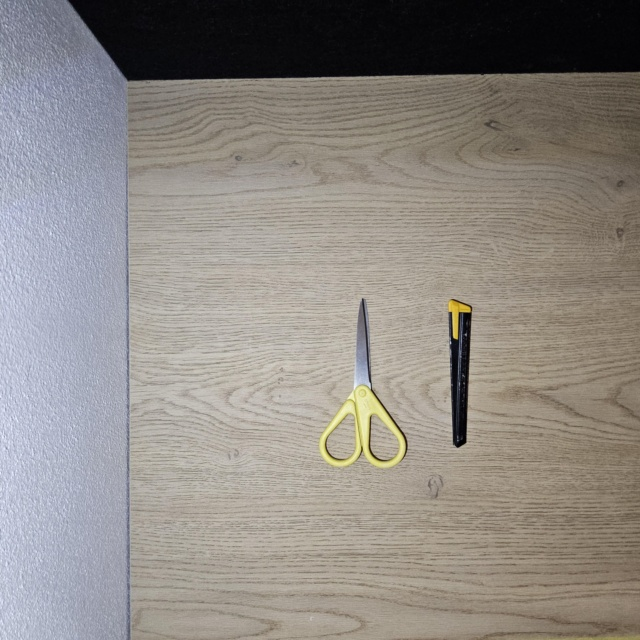scissor: (318, 298, 408, 469)
